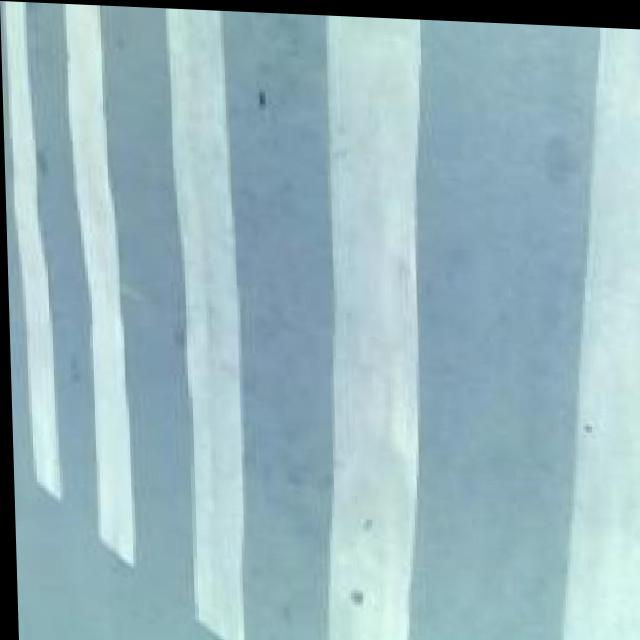zebra: (17, 8, 640, 506)
